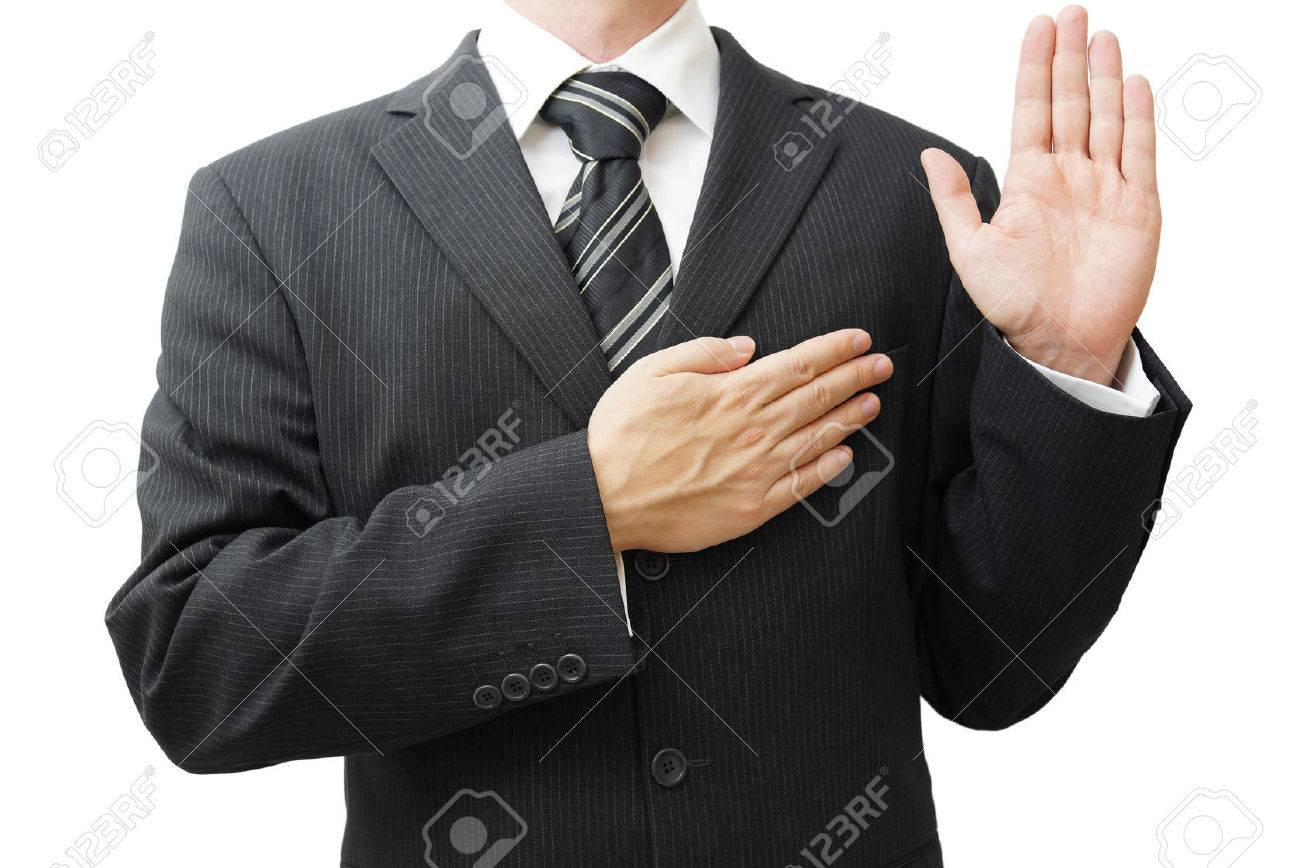open_hand: (908, 5, 1189, 347)
